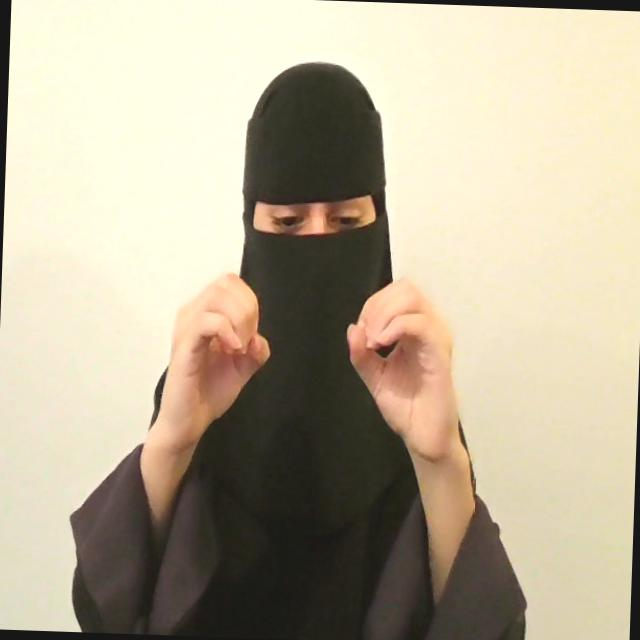analysis: (158, 264, 471, 454)
